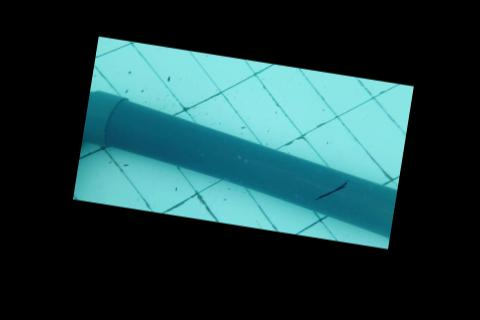keretakan: (312, 174, 350, 205)
